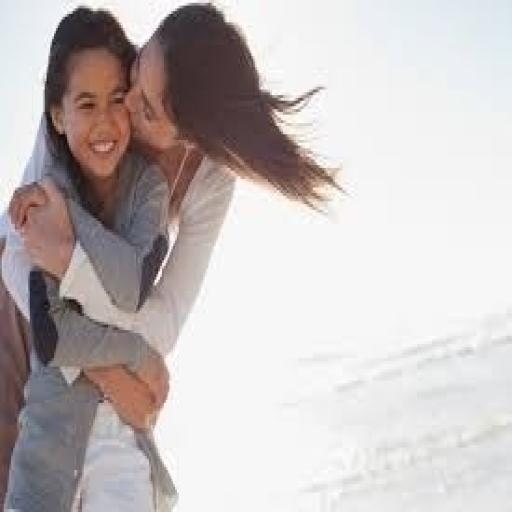hugging: (0, 0, 348, 509)
